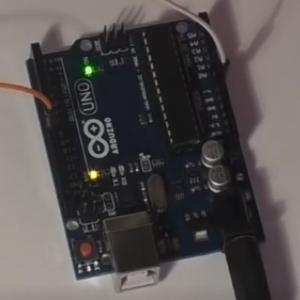duino: (22, 15, 260, 282)
